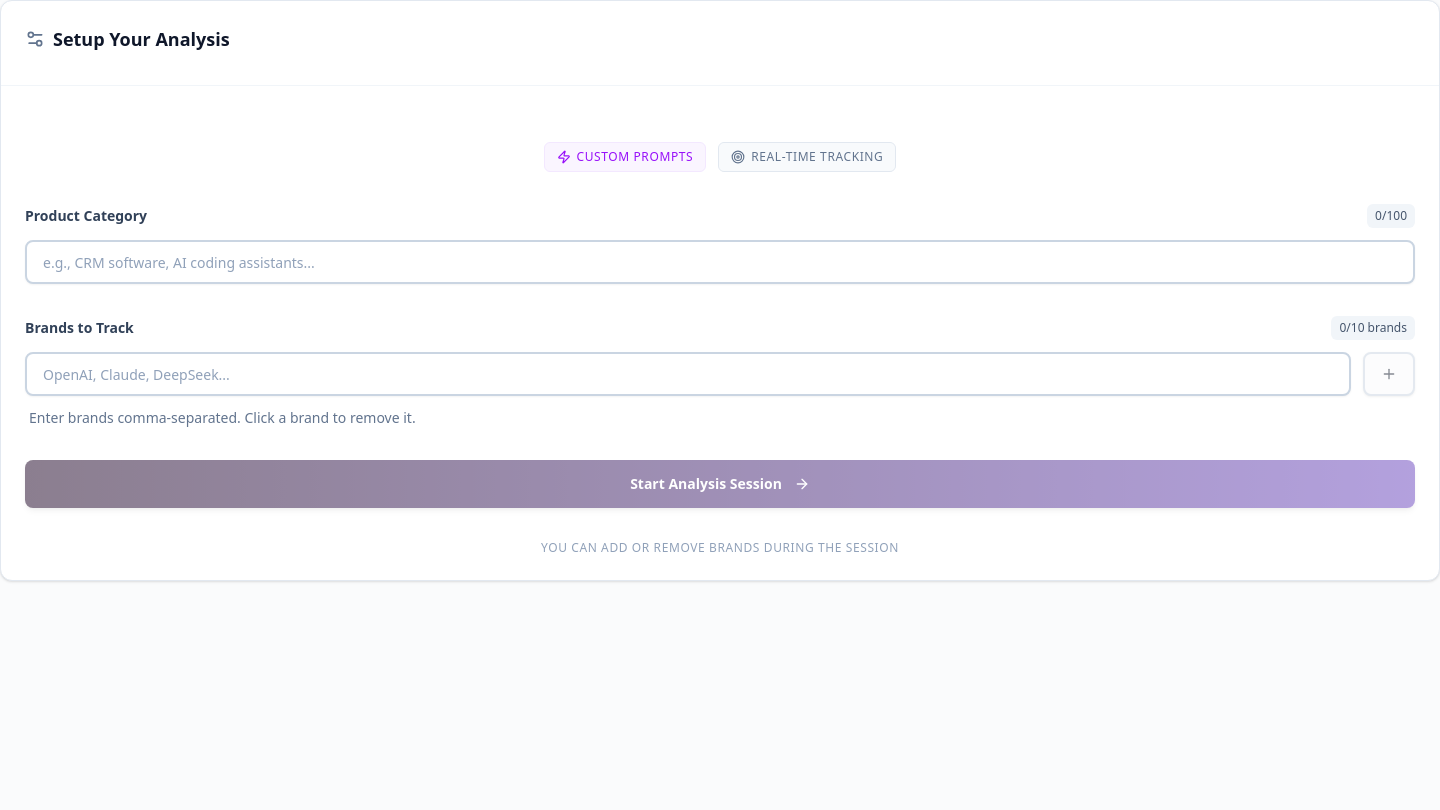
SessionSetup - extended coverage › brand management › trims whitespace from brand names
Type "  Trimmed  " into the field with placeholder "OpenAI, Claude, DeepSeek...".
click(688, 374); type("  Trimmed  ")  # box x1=25 y1=352 x2=1351 y2=396
Then press Enter
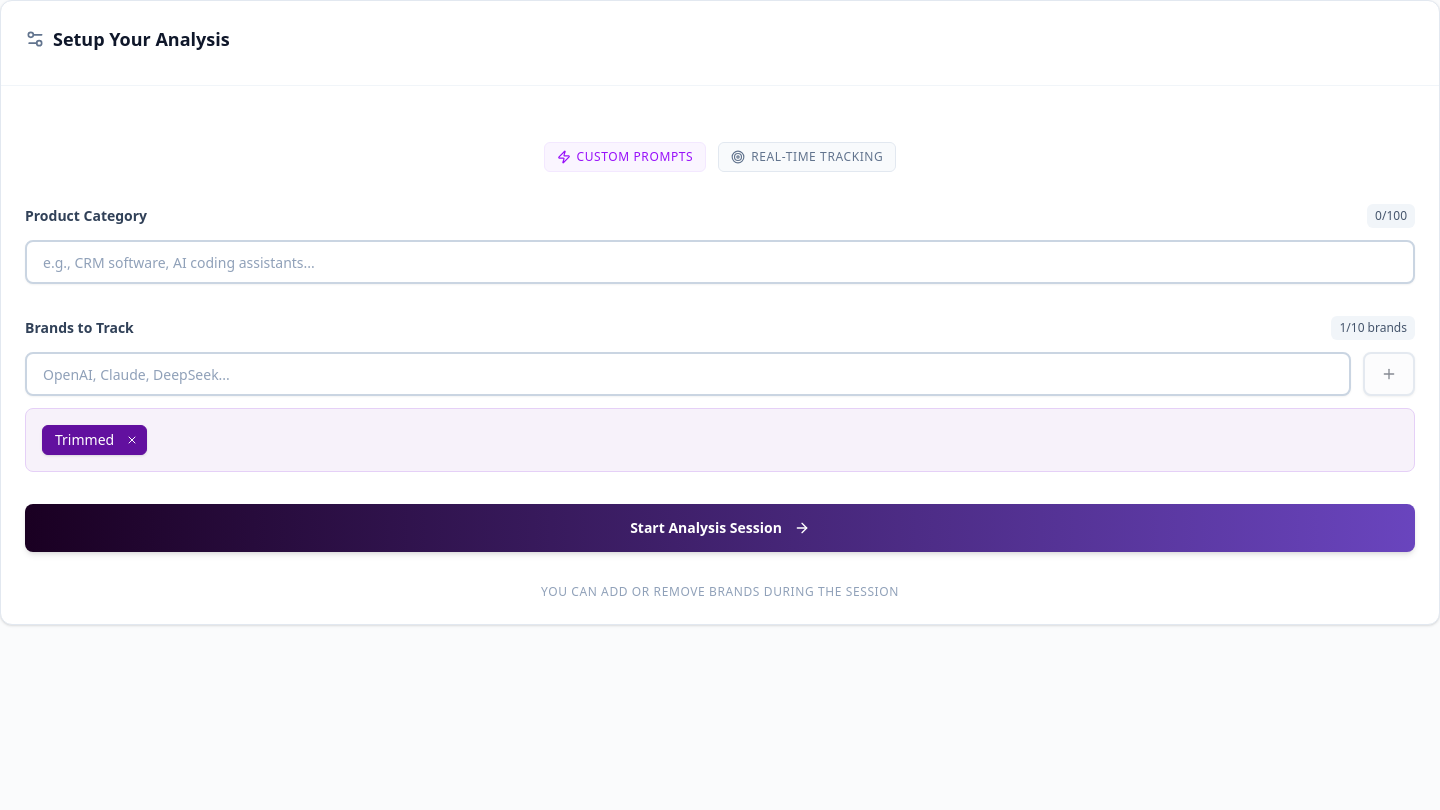
Check: the text "Trimmed" is shown, box x1=42 y1=425 x2=147 y2=455
